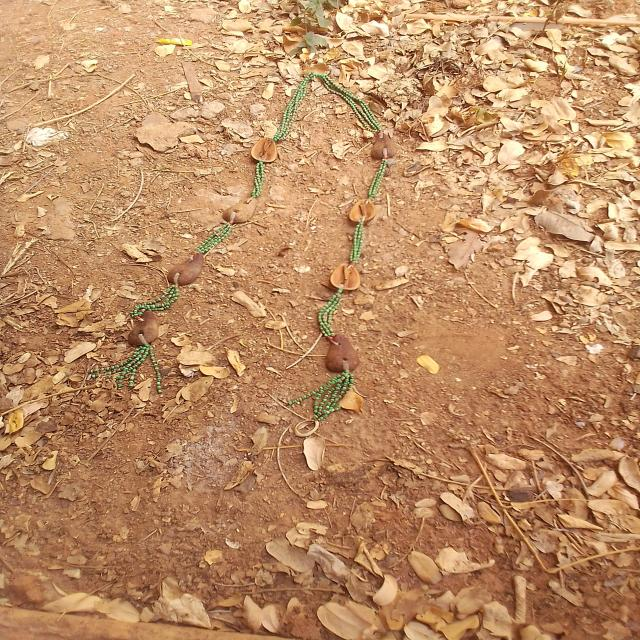facedown: (324, 332, 362, 374), (165, 249, 208, 286), (126, 309, 160, 348), (220, 194, 260, 226), (368, 128, 400, 163)
faceup: (247, 135, 281, 165), (328, 262, 362, 291), (347, 196, 377, 225)
